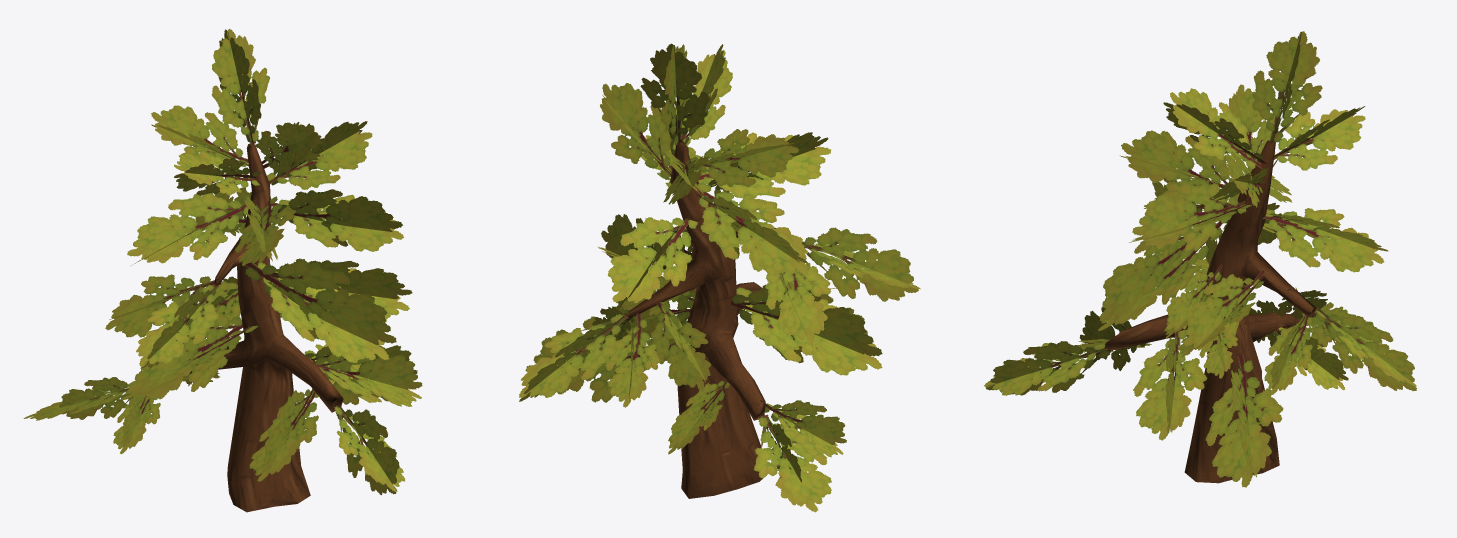
Rendered from tree3_02.fbx.
3 renders of one model, left to right at view 1: azimuth 30°, elevation 25°; view 2: azimuth 150°, elevation 25°; view 3: azimuth 270°, elevation 25°, orthographic. The views are drawn at different scales.
Visible parts, largest first — view 1: polySurface3, pPlane60, pPlane26, pPlane61, pPlane30, pPlane53, pPlane1, pPlane15, pPlane56, pPlane10, pPlane25, pPlane80 (+25 smaller); view 2: polySurface3, pPlane34, pPlane27, pPlane11, pPlane24, pPlane6, pPlane4, pPlane52, pPlane57, pPlane19, pPlane1, pPlane53 (+20 smaller); view 3: polySurface3, pPlane84, pPlane3, pPlane30, pPlane28, pPlane35, pPlane81, pPlane60, pPlane5, pPlane16, pPlane21, pPlane63 (+24 smaller).
Boxes of the visible parts, x1,y1,x2,y2 form: polySurface3: (189,143,343,512); pPlane60: (241,258,396,345); pPlane26: (127,193,248,263); pPlane61: (251,262,389,362); pPlane30: (271,189,402,246); pPlane53: (127,309,242,399); pPlane1: (211,28,269,144); pPlane15: (151,105,248,166); pPlane56: (105,274,221,337); pPlane10: (136,284,219,366); pPlane25: (267,131,372,189); pPlane80: (315,345,422,404); polySurface3: (625,139,775,498); pPlane34: (608,217,697,302); pPlane27: (697,182,808,276); pPlane11: (802,227,918,301); pPlane24: (600,83,672,179); pPlane6: (754,414,831,512); pPlane4: (519,314,628,397); pPlane52: (736,287,882,375); pPlane57: (765,262,830,345); pPlane19: (690,129,799,187); pPlane1: (640,43,709,143); pPlane53: (731,284,882,363); polySurface3: (1105,140,1315,483); pPlane84: (1205,354,1283,487); pPlane3: (1252,31,1322,143); pPlane30: (1132,182,1246,251); pPlane28: (1121,130,1239,200); pPlane35: (1263,208,1384,272); pPlane81: (1133,329,1207,440); pPlane60: (1099,222,1216,323); pPlane5: (1315,309,1416,390); pPlane16: (1274,109,1365,170); pPlane21: (1170,88,1262,168); pPlane63: (1184,269,1264,350).
Size of the model in its own units: 714 by 783 by 757.
